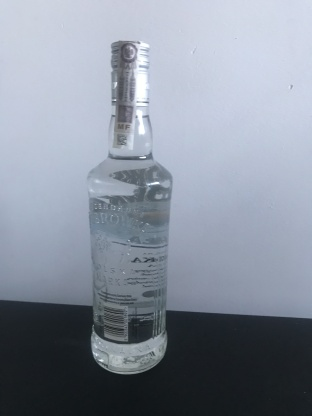nakretka: (107, 36, 153, 109)
